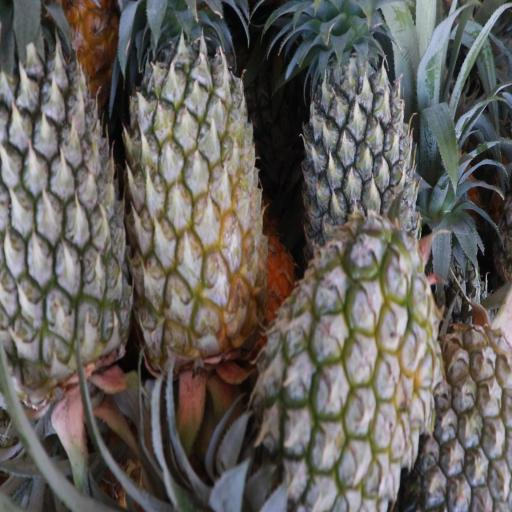------------------------------: (131, 0, 267, 367), (268, 232, 439, 505)
